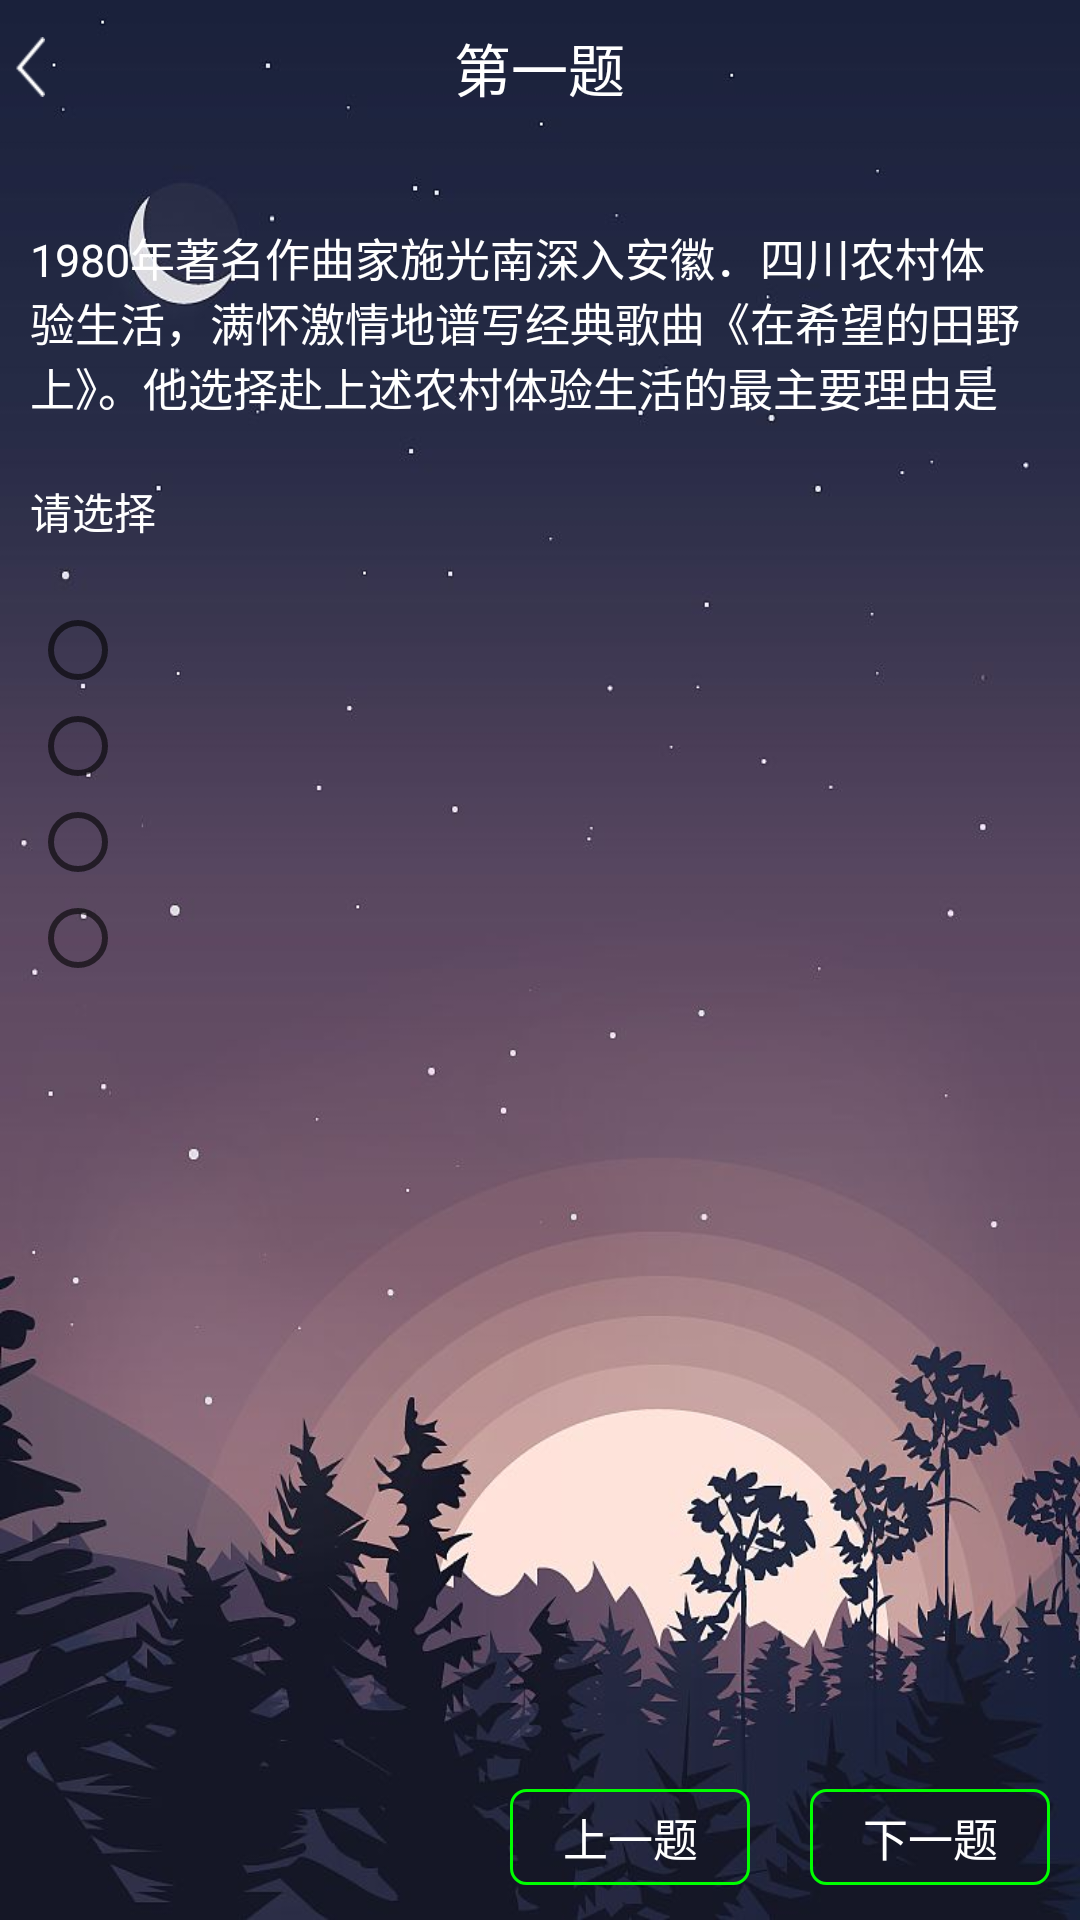

Icon click points for this 1080 x 1920 phone screenshot, format point (x, y):
navleft: point (30, 67)
